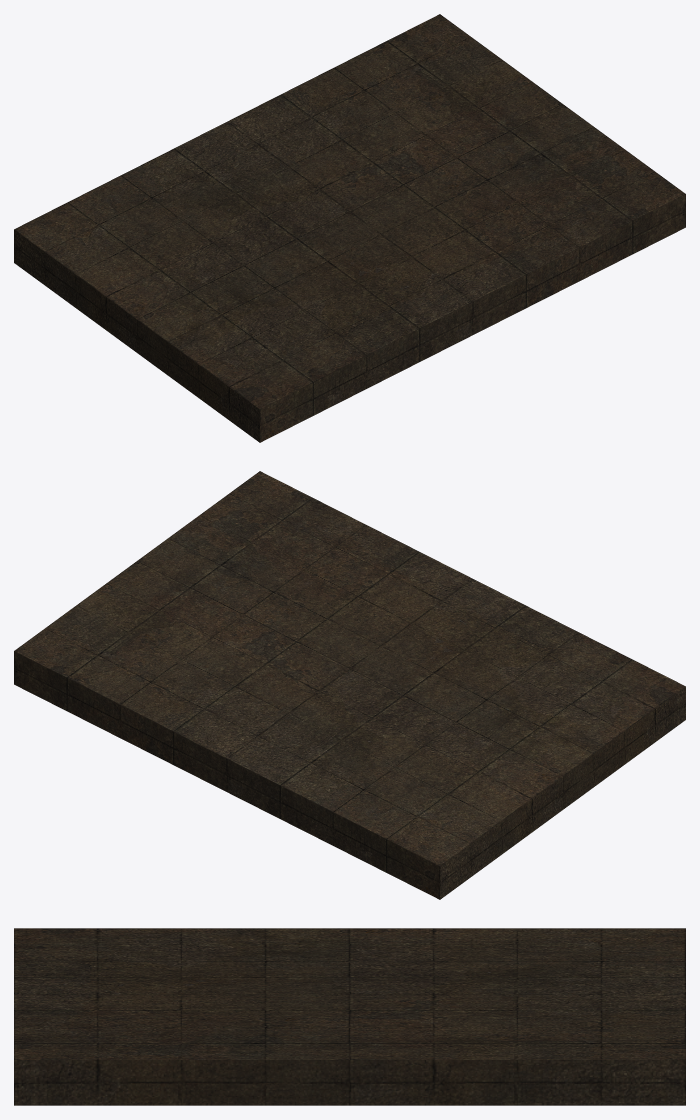
The model's file is floor_ceiling_hs_3.fbx.
3 views of the same model, one above another, from view 1: azimuth 30°, elevation 25°; view 2: azimuth 150°, elevation 25°; view 3: azimuth 270°, elevation 25° (orthographic). The views are drawn at different scales.
Visible parts, largest first — view 1: floor_ceiling_hs_3; view 2: floor_ceiling_hs_3; view 3: floor_ceiling_hs_3.
Part boxes in pixels (<box>): floor_ceiling_hs_3: <box>14,14,685,442</box>; floor_ceiling_hs_3: <box>14,471,685,899</box>; floor_ceiling_hs_3: <box>14,928,685,1105</box>.
Size of the model in its own units: 4 by 4 by 1.3.
